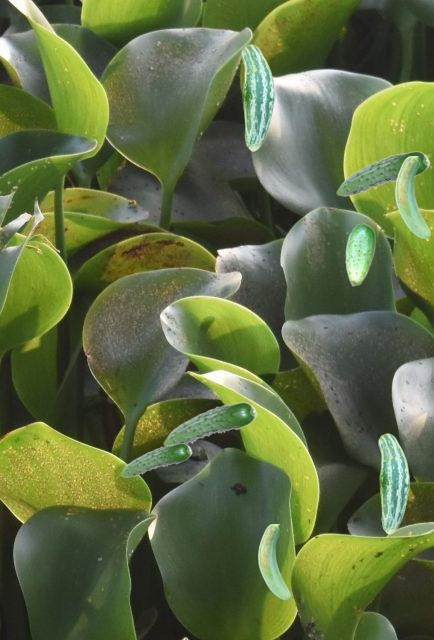cucumber: (336, 151, 429, 195), (163, 402, 256, 445), (241, 44, 273, 150), (378, 433, 408, 533), (395, 156, 429, 237), (120, 443, 191, 476), (258, 524, 289, 598), (345, 223, 374, 285)
